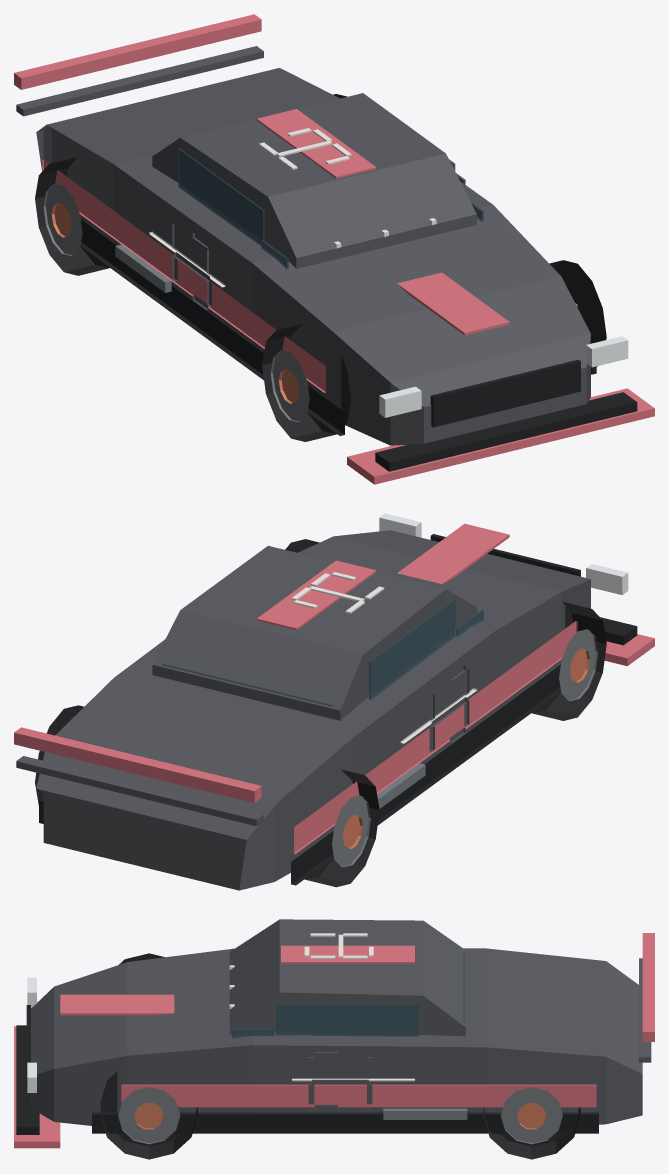
Rendered from web_stock_car_08.gltf.
The picture shows the model from 3 angles, top to bottom: view 1: azimuth 30°, elevation 25°; view 2: azimuth 150°, elevation 25°; view 3: azimuth 270°, elevation 25°; orthographic projection. The views are drawn at different scales.
Visible parts, largest first — view 1: WebStockCar_08; view 2: WebStockCar_08; view 3: WebStockCar_08.
Boxes of the visible parts, x1,y1,x2,y2 form: WebStockCar_08: [14, 14, 654, 484]; WebStockCar_08: [14, 513, 654, 890]; WebStockCar_08: [14, 919, 654, 1159].
Bounding box in the file's own units: 2.35 × 1.34 × 5.26.
